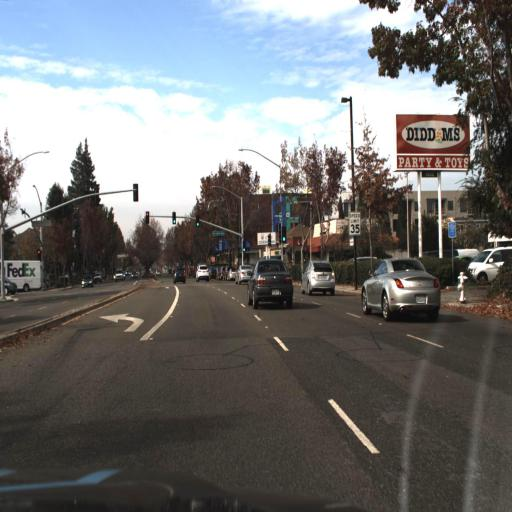car: (362, 258, 438, 319), (243, 253, 294, 317), (467, 244, 512, 287), (300, 256, 340, 295), (236, 254, 253, 289), (170, 265, 188, 288), (76, 270, 94, 292), (193, 260, 211, 282), (113, 264, 125, 285)
trafficLight-Green: (280, 221, 289, 245), (193, 212, 202, 233), (171, 211, 178, 230), (239, 239, 246, 258)
trafficLight-Red: (143, 207, 151, 230)
truck: (0, 255, 47, 294)
